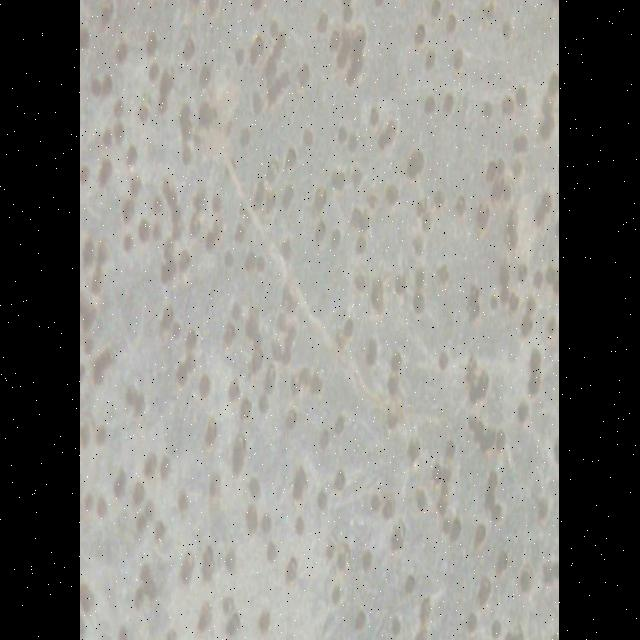Fibre: (224, 150, 402, 444)
